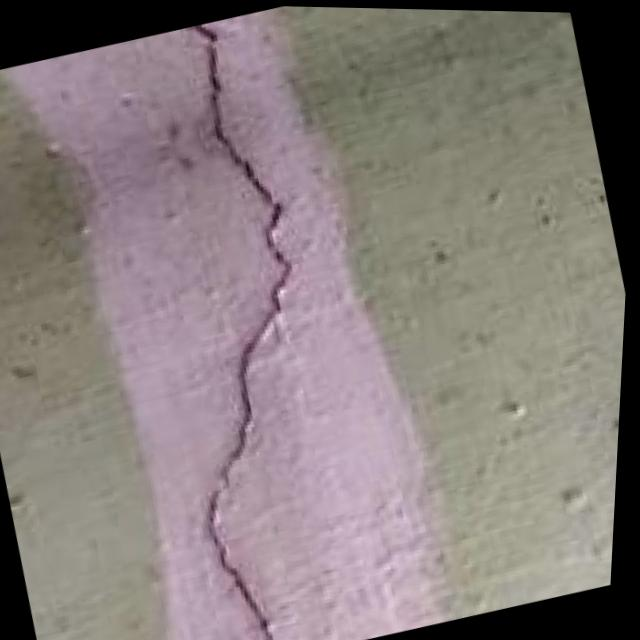Crack: (63, 2, 440, 640)
